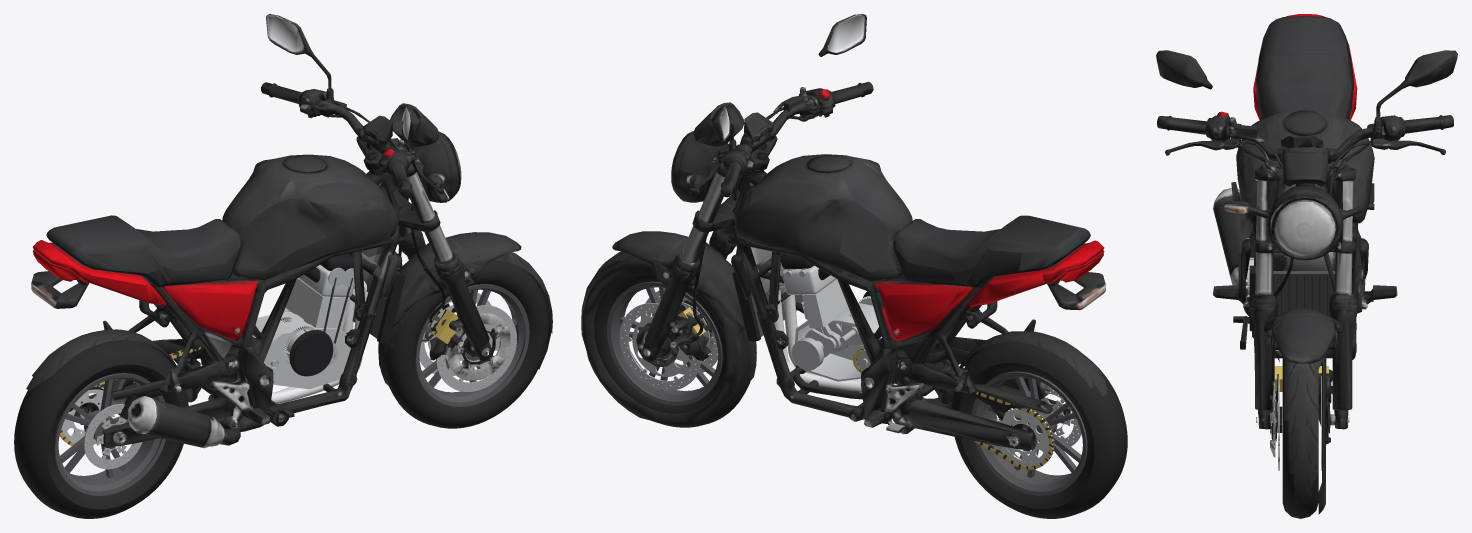
3 views of the same model, side by side, from view 1: azimuth 30°, elevation 25°; view 2: azimuth 150°, elevation 25°; view 3: azimuth 270°, elevation 25° (orthographic). The views are drawn at different scales.
Parts seen in each view (by area): view 1: frame, wheel_rear, wheel_front, tank, fork, seat, handlebar, side_cover_r, tail, crankcase, headlight_cowl, swingarm (+8 smaller); view 2: frame, wheel_rear, tank, wheel_front, fork, side_cover_l, handlebar, seat, tail, disc_front_l, headlight_cowl, crankcase (+9 smaller); view 3: frame, handlebar, seat, fork, headlight_cowl, tank, radiator, wheel_front, tail.
Part boxes in pixels (<box>): frame: <box>26,82,552,448</box>; wheel_rear: <box>14,340,188,518</box>; wheel_front: <box>387,260,548,428</box>; tank: <box>222,125,398,271</box>; fork: <box>366,170,510,376</box>; seat: <box>50,215,241,287</box>; handlebar: <box>266,14,443,205</box>; side_cover_r: <box>153,246,265,367</box>; tail: <box>31,227,141,308</box>; crankcase: <box>252,312,350,389</box>; headlight_cowl: <box>392,131,461,223</box>; swingarm: <box>70,344,240,447</box>; frame: <box>581,82,1107,450</box>; wheel_rear: <box>951,341,1127,518</box>; tank: <box>738,113,912,272</box>; wheel_front: <box>594,261,750,427</box>; fork: <box>636,170,767,366</box>; side_cover_l: <box>867,248,985,371</box>; handlebar: <box>688,14,867,204</box>; seat: <box>893,215,1082,283</box>; tail: <box>1019,227,1105,310</box>; disc_front_l: <box>619,303,701,390</box>; headlight_cowl: <box>671,131,744,223</box>; crankcase: <box>795,303,882,381</box>; frame: <box>1159,41,1452,514</box>; handlebar: <box>1156,50,1457,228</box>; seat: <box>1253,17,1353,118</box>; fork: <box>1250,180,1350,441</box>; headlight_cowl: <box>1252,166,1341,295</box>; tank: <box>1243,110,1361,227</box>; radiator: <box>1249,265,1335,330</box>; wheel_front: <box>1282,357,1318,518</box>; tail: <box>1255,14,1350,83</box>.
Bounding box in the file's own units: 2.11 × 1.47 × 1.01.
Materials: 10 (1 with a texture image).
